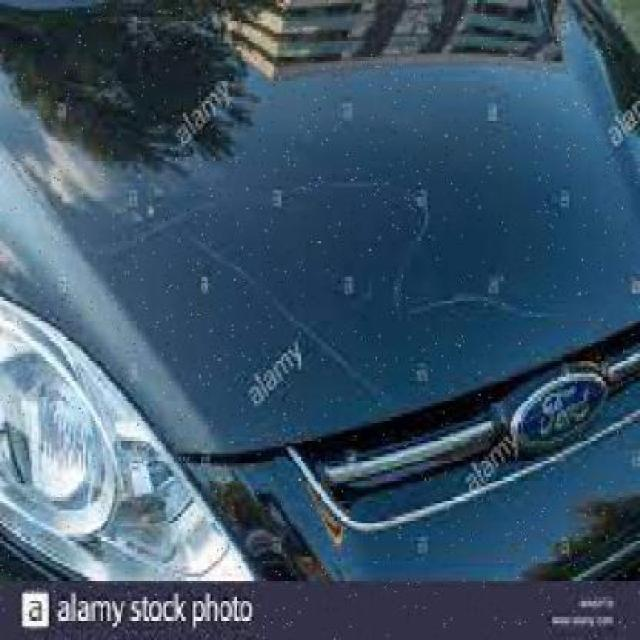bonnet-dent: (0, 43, 638, 429)
